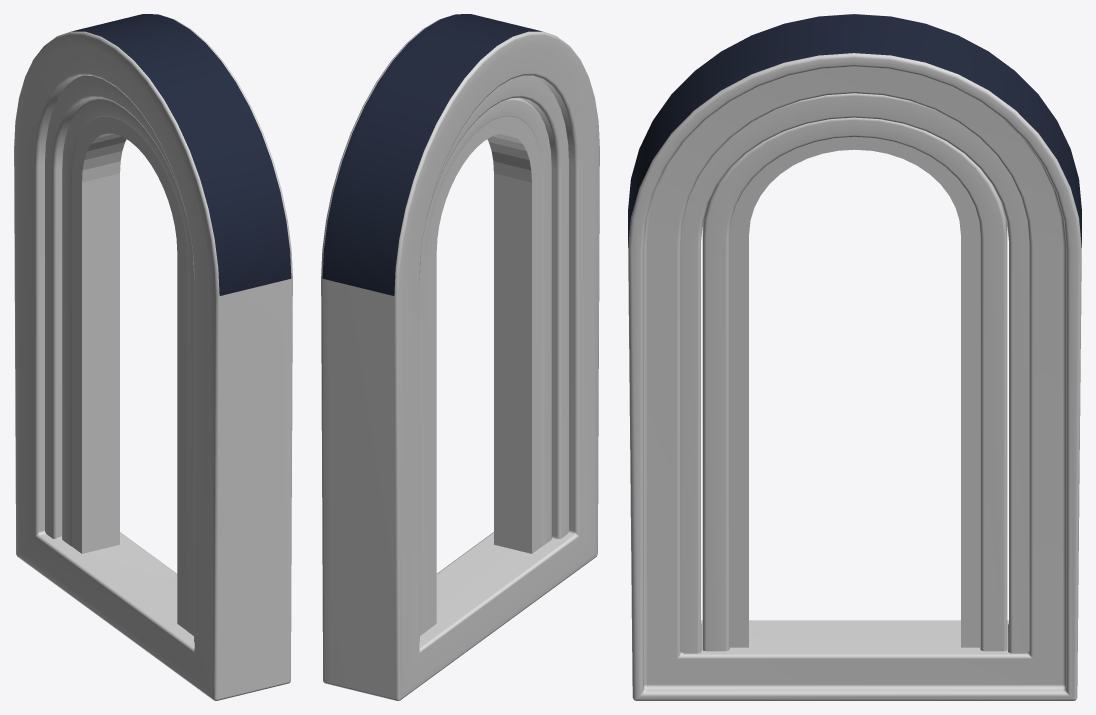
Rendered from FM_White_H_Door_Frame_001.fbx.
3 views of the same model, side by side, from view 1: azimuth 30°, elevation 25°; view 2: azimuth 150°, elevation 25°; view 3: azimuth 270°, elevation 25° (orthographic). The views are drawn at different scales.
Visible parts, largest first — view 1: FM_White_H_Door_Frame_001; view 2: FM_White_H_Door_Frame_001; view 3: FM_White_H_Door_Frame_001.
Part boxes in pixels (box(x1,y1,x2,y2)): FM_White_H_Door_Frame_001: box(14, 14, 292, 700); FM_White_H_Door_Frame_001: box(321, 14, 599, 700); FM_White_H_Door_Frame_001: box(628, 14, 1081, 700).
Size of the model in its own units: 0.4916 by 3.53 by 2.24.
